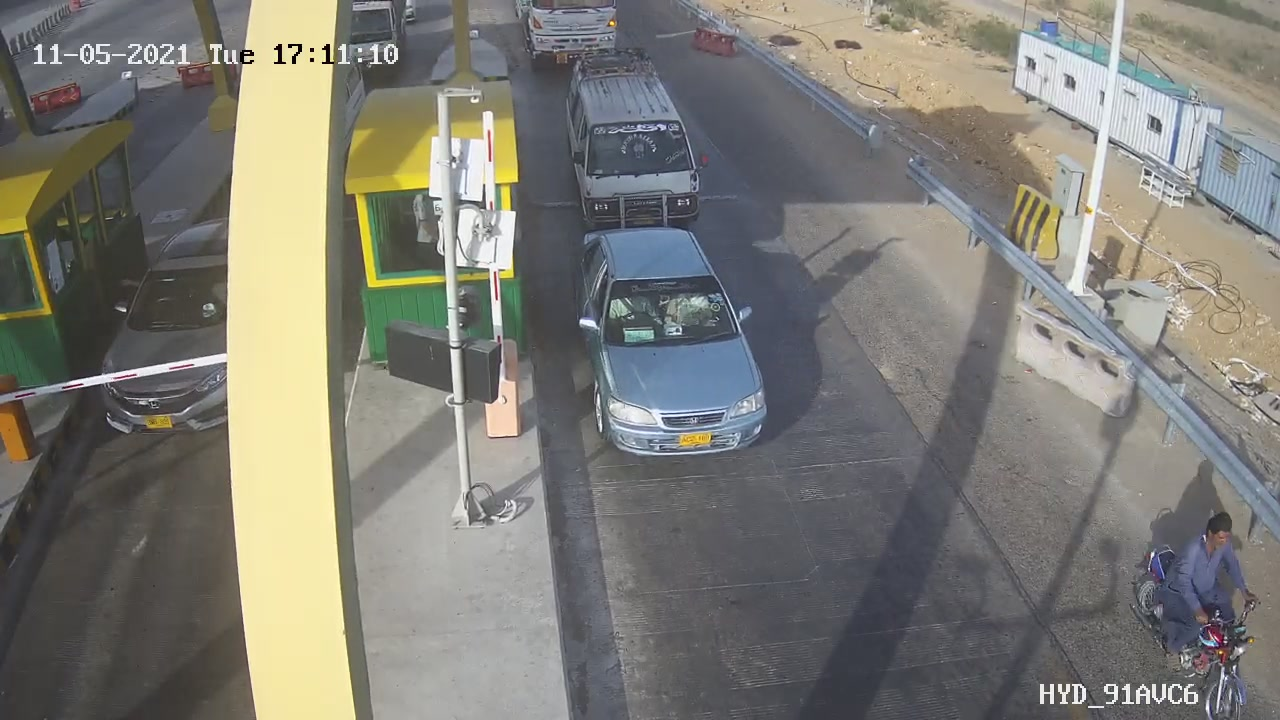F1: (566, 236, 800, 472)
F2: (542, 34, 722, 259)
